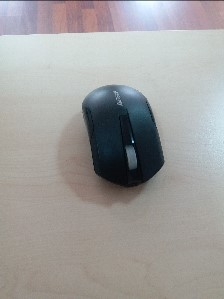mouse: (80, 86, 164, 188)
